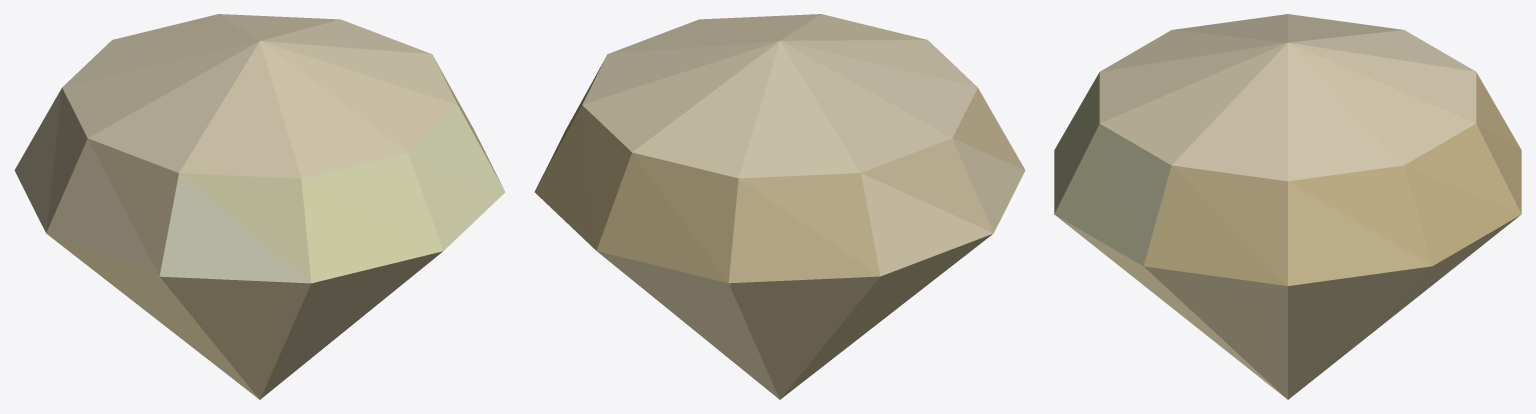
The model's file is prop_treasure_gem_diamond2.fbx.
The picture shows the model from 3 angles, left to right: view 1: azimuth 30°, elevation 25°; view 2: azimuth 150°, elevation 25°; view 3: azimuth 270°, elevation 25°; orthographic projection.
Parts seen in each view (by area): view 1: prop_treasure_gem_diamond2; view 2: prop_treasure_gem_diamond2; view 3: prop_treasure_gem_diamond2.
Part boxes in pixels (<box>): prop_treasure_gem_diamond2: <box>14,14,505,399</box>; prop_treasure_gem_diamond2: <box>534,14,1025,399</box>; prop_treasure_gem_diamond2: <box>1054,14,1521,399</box>.
Size of the model in its own units: 0.5011 by 0.4021 by 0.4766.
